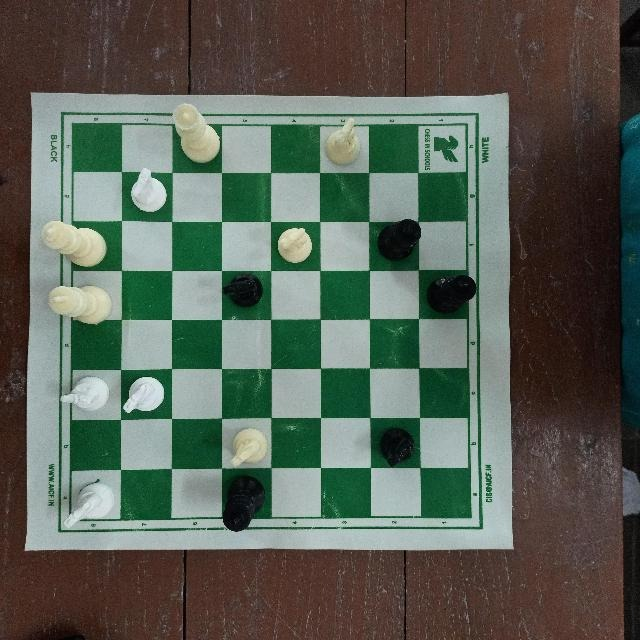black-king: (217, 476, 275, 534), (428, 268, 478, 315), (378, 217, 420, 265)
black-knight: (367, 417, 423, 470), (221, 270, 272, 316)
white-king: (33, 210, 117, 271), (43, 277, 117, 327)
white-knight: (58, 478, 116, 538), (47, 373, 114, 420), (219, 423, 270, 476), (317, 113, 364, 169), (120, 375, 166, 425), (123, 168, 170, 212), (277, 222, 317, 262)
white-queen: (167, 97, 220, 175)
